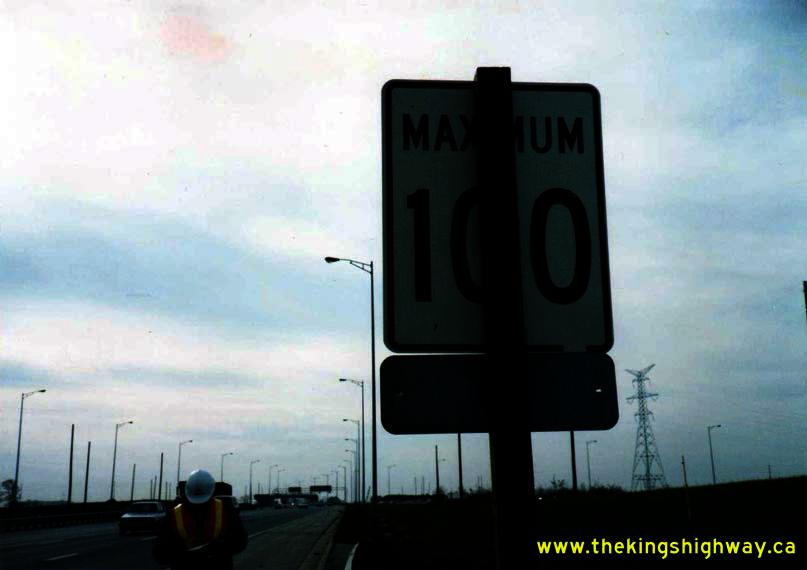speed limit sign: (377, 81, 615, 353)
